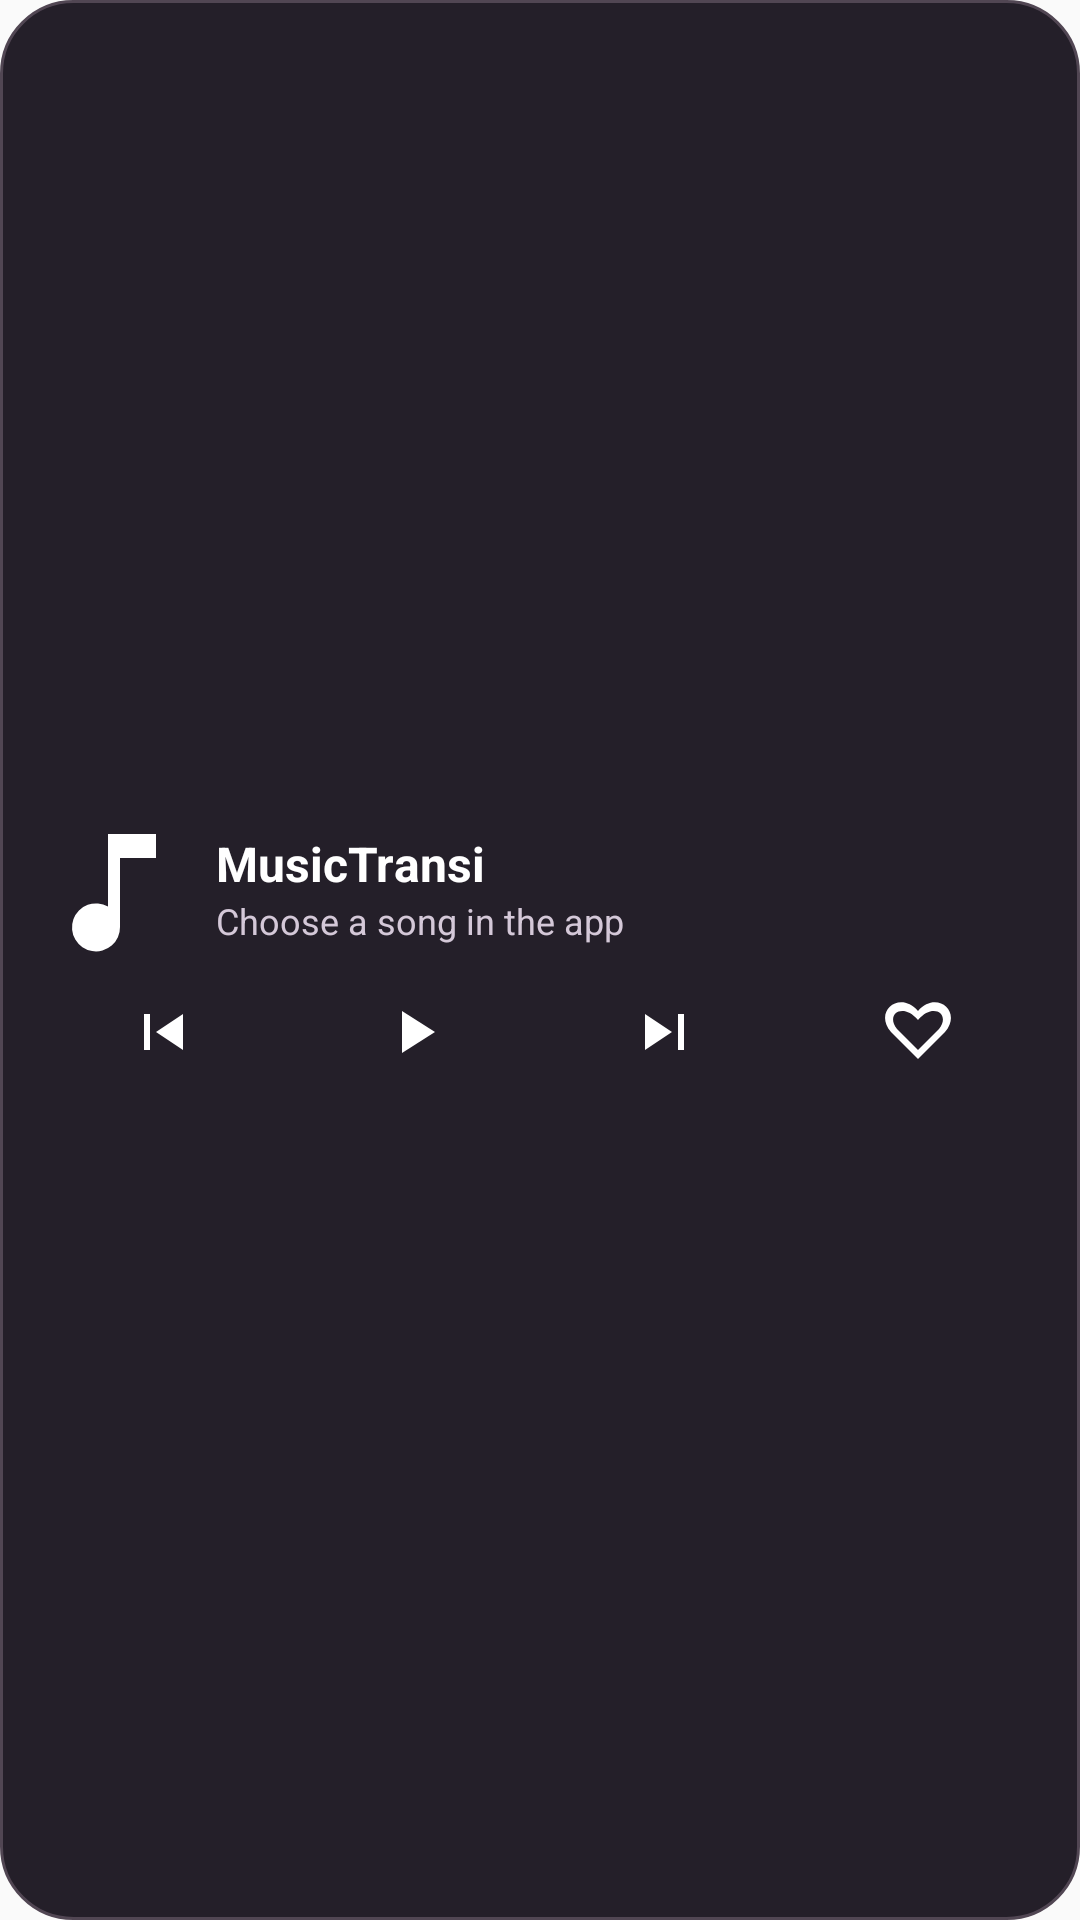

Icon bounding boxes for this 1080px x 1920px phone screenshot, format (x1, y1, x2, y2):
Like song: (885, 1002, 951, 1059)
Next: (645, 1014, 684, 1050)
Play: (402, 1011, 435, 1053)
Previous: (144, 1014, 183, 1050)
